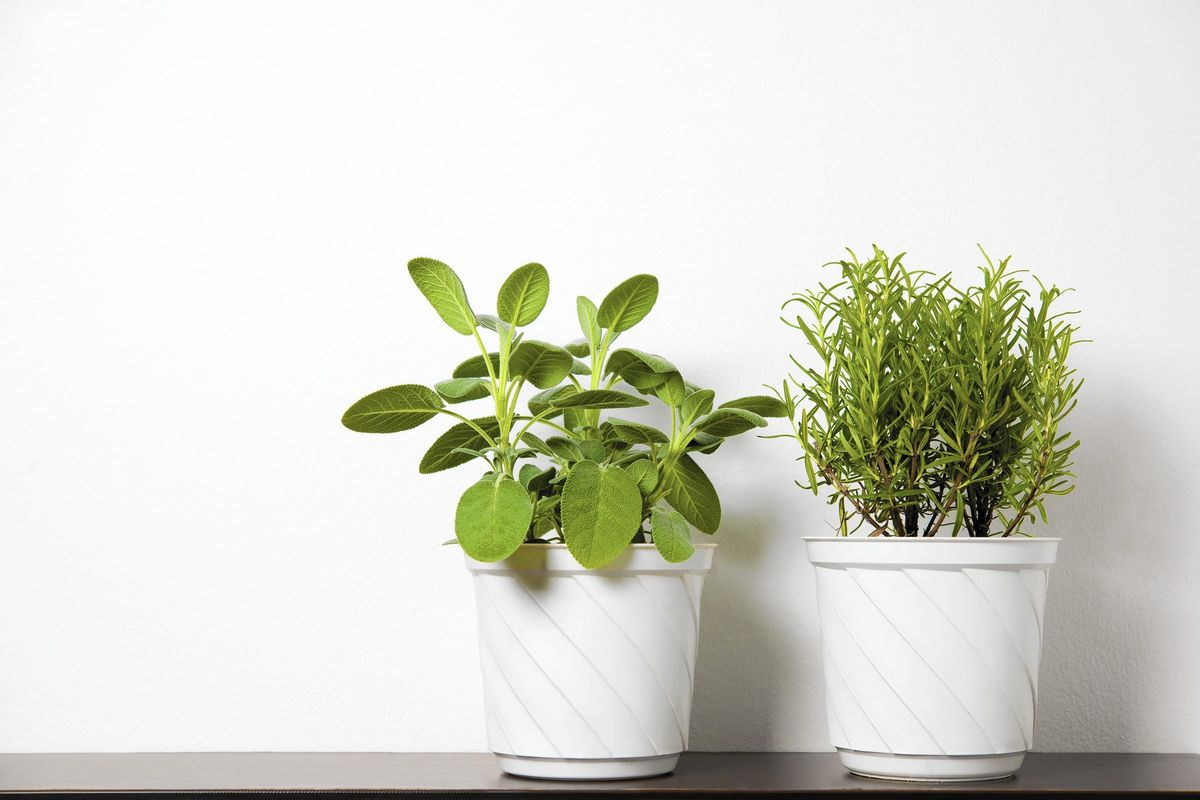tanaman: (375, 263, 770, 791), (751, 276, 1100, 769)
